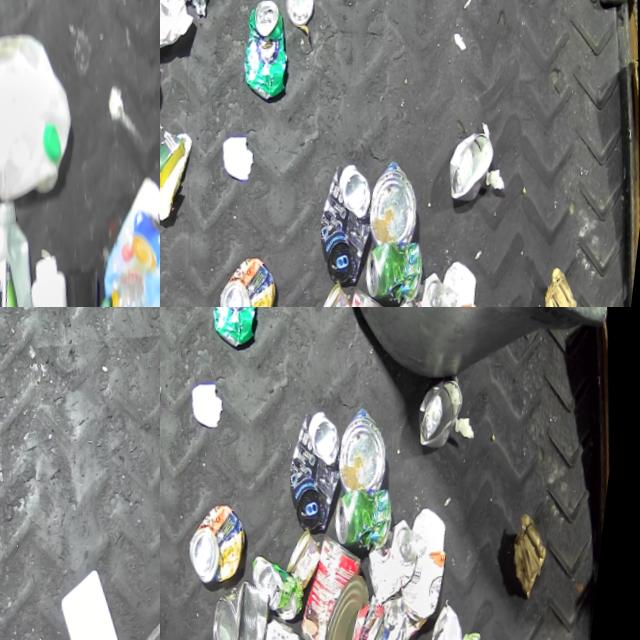can: (297, 521, 384, 640), (314, 151, 391, 280), (283, 398, 360, 527), (189, 493, 262, 581), (235, 0, 299, 97), (367, 505, 433, 598), (366, 148, 432, 239), (335, 395, 401, 486), (211, 568, 291, 640), (320, 563, 390, 640), (366, 227, 435, 299), (335, 474, 404, 546), (254, 543, 318, 618), (446, 114, 505, 193), (415, 361, 474, 440), (220, 245, 292, 307), (397, 258, 463, 307), (352, 606, 447, 640), (288, 519, 334, 584), (328, 274, 415, 307), (428, 590, 480, 640), (204, 307, 268, 344), (254, 606, 322, 640), (318, 272, 365, 307), (282, 0, 319, 22)
milk_jug: (0, 14, 93, 202), (51, 555, 159, 640)
non_white_jug: (0, 187, 64, 307)
